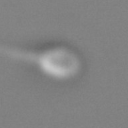normal: (1, 38, 39, 67)
